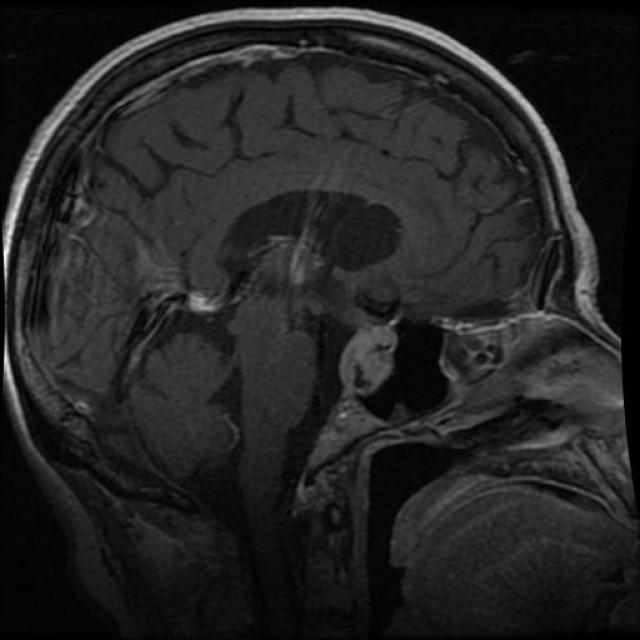pituitary: (332, 316, 405, 402)
